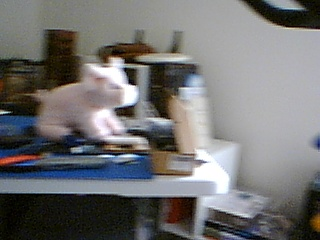piggy: (32, 55, 141, 141)
